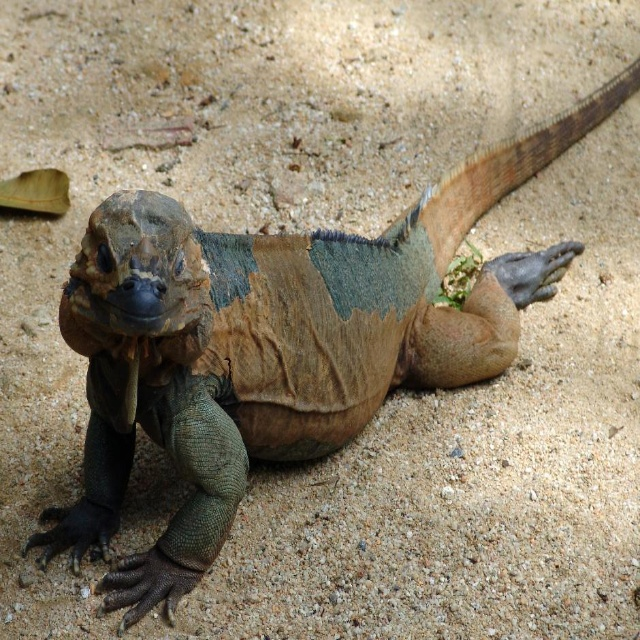Lizard: (28, 47, 606, 607)
